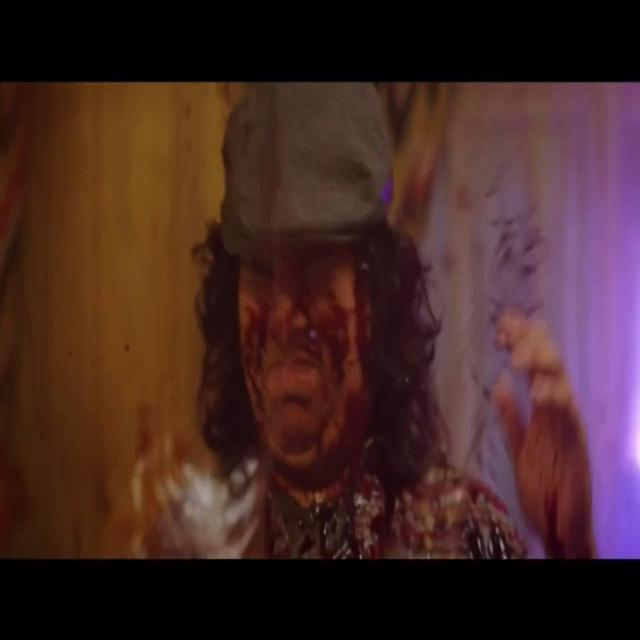flood: (255, 456, 369, 564)
